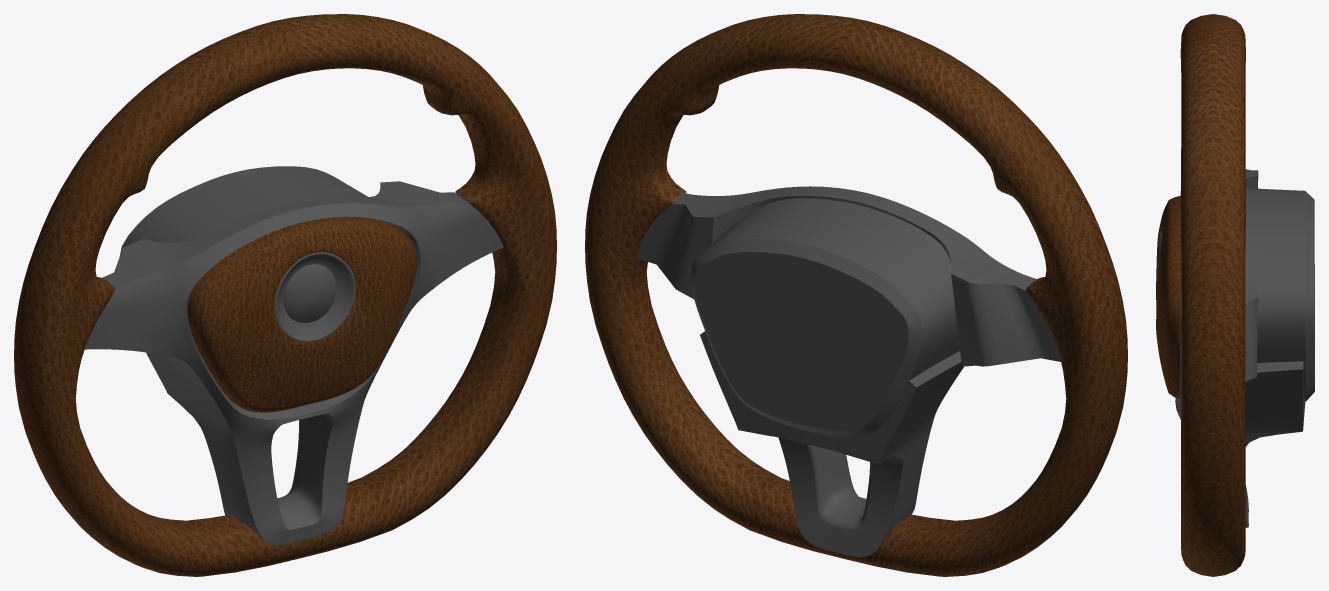
Rendered from SterringWheel.glb.
3 views of the same model, side by side, from view 1: azimuth 30°, elevation 25°; view 2: azimuth 150°, elevation 25°; view 3: azimuth 270°, elevation 25° (orthographic). The views are drawn at different scales.
Visible parts, largest first — view 1: Leather, Metal; view 2: Leather, Metal; view 3: Leather, Metal.
Boxes of the visible parts, box(x1,y1,x2,y2) form: Leather: box(14, 14, 556, 576); Metal: box(84, 166, 503, 544); Leather: box(585, 14, 1127, 576); Metal: box(635, 186, 1060, 556); Leather: box(1156, 14, 1245, 576); Metal: box(1157, 169, 1314, 527).
Bounding box in the file's own units: 2.81 × 2.69 × 0.7864.
Materials: 2 (1 with a texture image).
